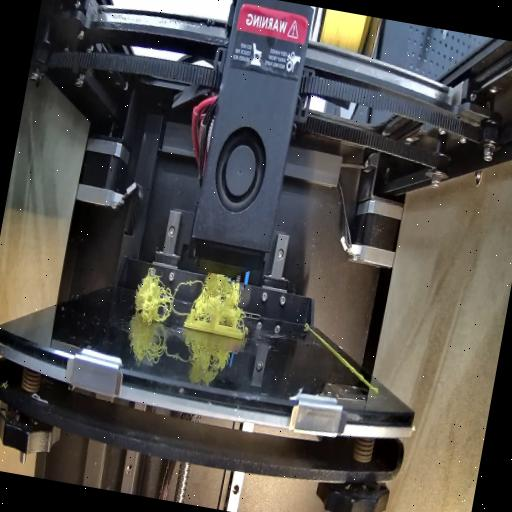spaghetti: (174, 263, 248, 328), (127, 264, 181, 328)
